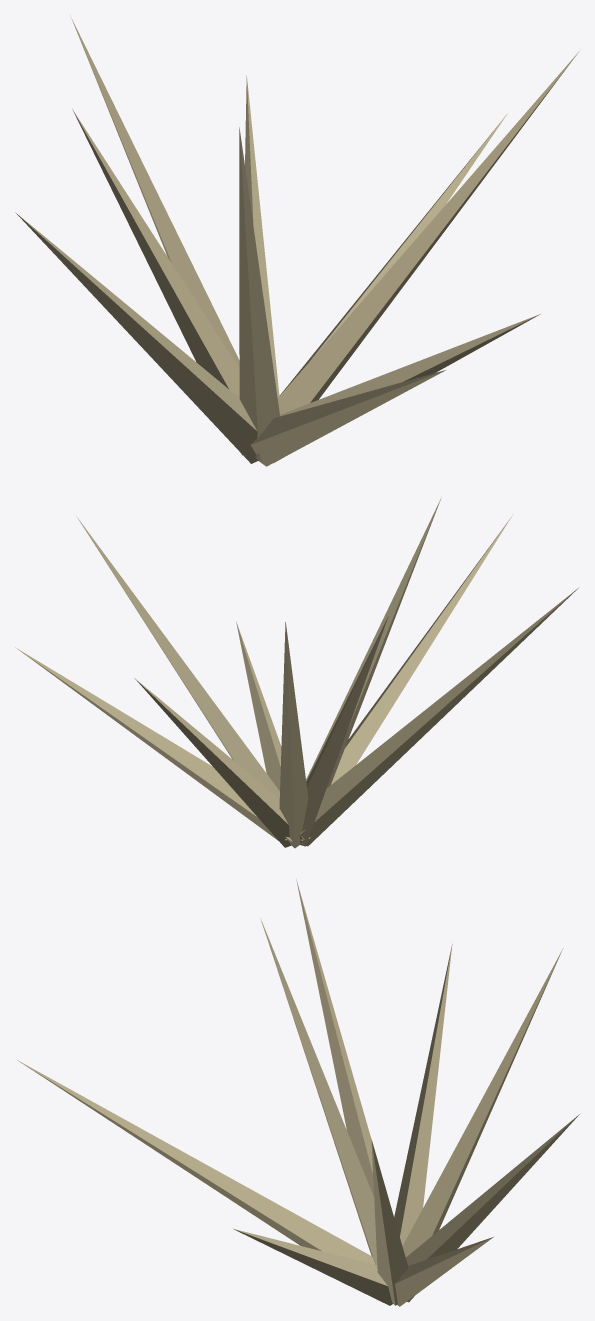
3 views of the same model, one above another, from view 1: azimuth 30°, elevation 25°; view 2: azimuth 150°, elevation 25°; view 3: azimuth 270°, elevation 25° (orthographic). The views are drawn at different scales.
Parts seen in each view (by area): view 1: SC_DesertReeds; view 2: SC_DesertReeds; view 3: SC_DesertReeds.
Boxes of the visible parts, x1,y1,x2,y2 form: SC_DesertReeds: [15, 15, 579, 466]; SC_DesertReeds: [15, 498, 579, 848]; SC_DesertReeds: [16, 879, 580, 1306].
Size of the model in its own units: 0.9499 by 0.6239 by 0.928.
